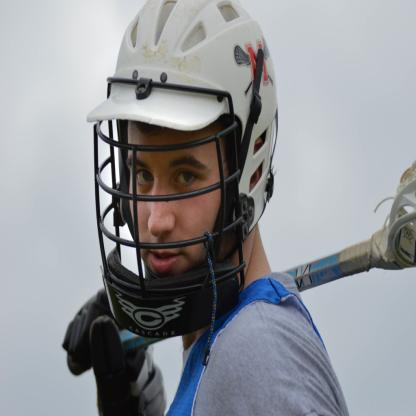Helmet: (86, 0, 276, 339)
